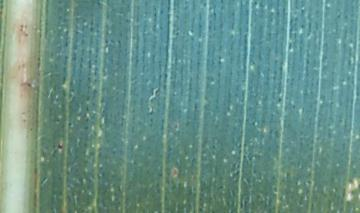tarspot: (55, 138, 67, 156)
